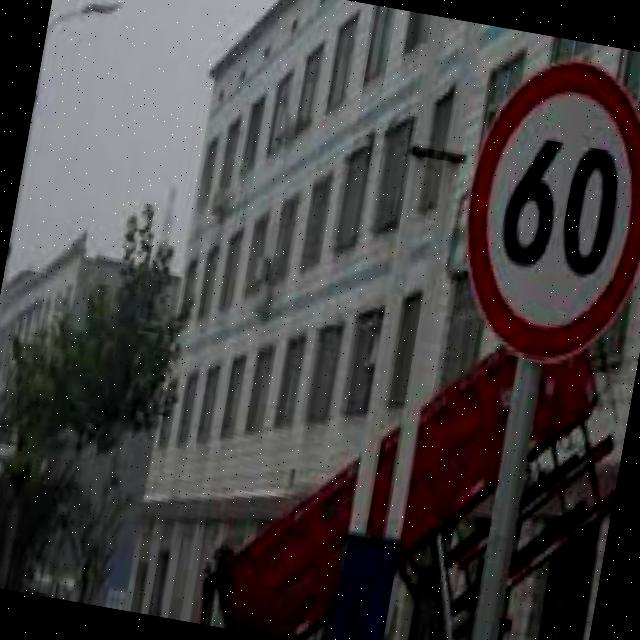Ograniczenie predkosci do 60: (447, 42, 640, 365)
